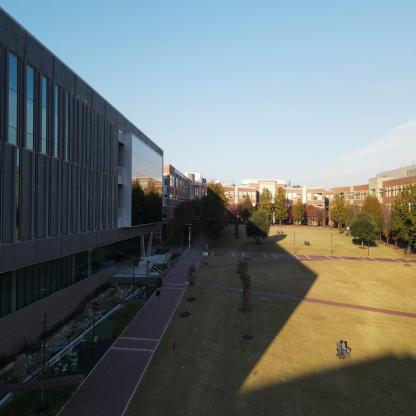EB-1: (165, 157, 220, 251)
Fitts- Woolard: (0, 2, 165, 414)
